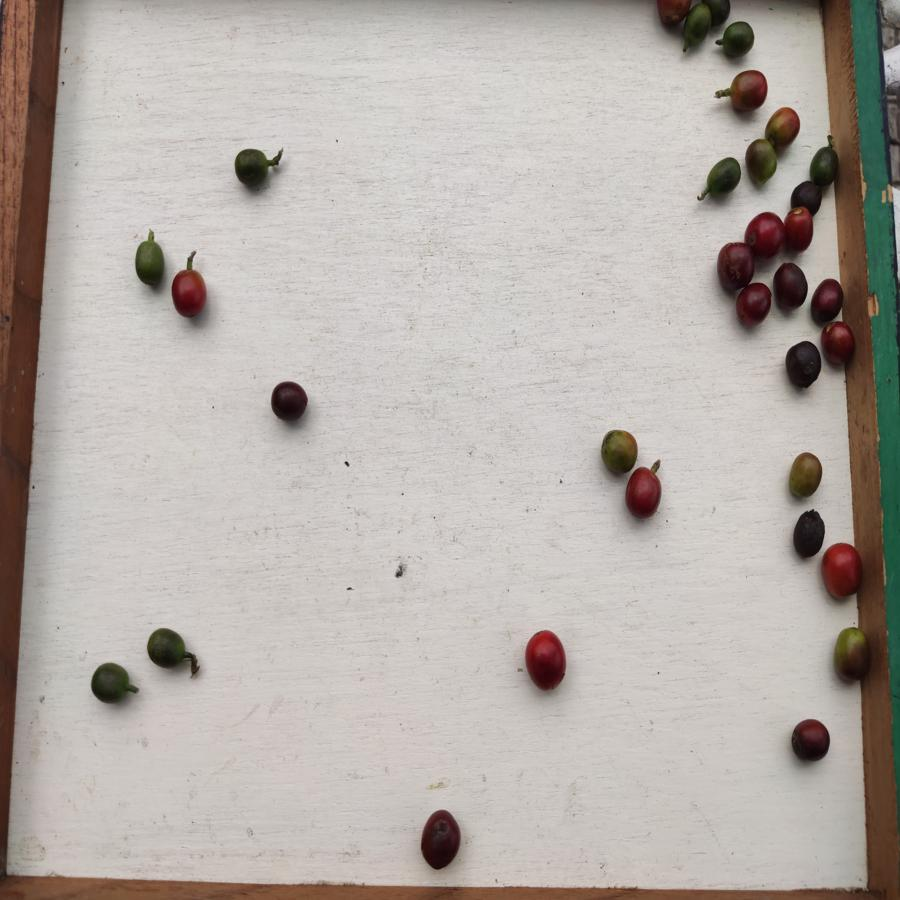Inmaduro: (143, 624, 186, 669), (89, 661, 132, 705), (704, 157, 743, 199), (133, 238, 166, 286), (234, 147, 270, 190), (685, 4, 712, 49), (721, 20, 756, 54), (811, 145, 840, 181)
Maduro: (525, 627, 569, 691), (822, 541, 863, 601), (623, 464, 662, 519), (170, 266, 211, 317)
Pinton: (830, 624, 873, 688), (726, 69, 771, 114), (788, 451, 826, 498), (599, 428, 639, 471), (765, 106, 802, 146)
Sobremaduro: (414, 807, 464, 871), (786, 716, 834, 765), (784, 339, 824, 391), (268, 381, 311, 424), (716, 242, 756, 288), (734, 281, 773, 326), (773, 262, 808, 311), (744, 213, 784, 255), (822, 321, 856, 370), (791, 511, 826, 558), (782, 208, 818, 253), (811, 279, 846, 322)
